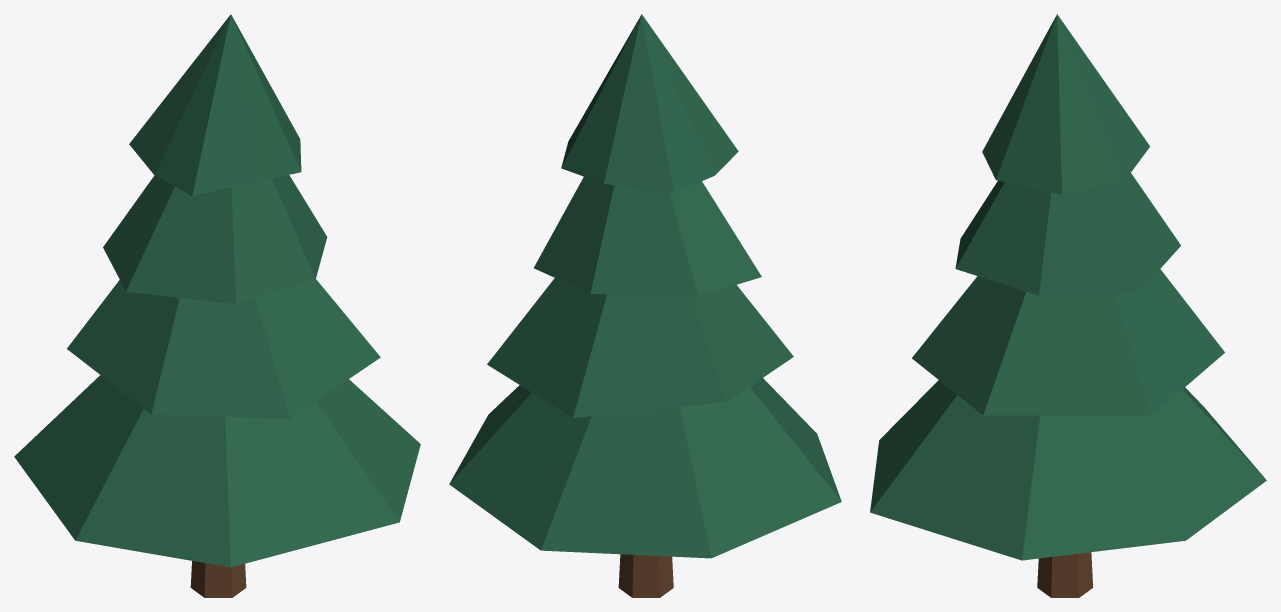
File: Pine_A.glb
3 renders of one model, left to right at view 1: azimuth 30°, elevation 25°; view 2: azimuth 150°, elevation 25°; view 3: azimuth 270°, elevation 25°, orthographic.
Visible parts, largest first — view 1: Pine_A; view 2: Pine_A; view 3: Pine_A.
Part boxes in pixels (bbox=[...]): Pine_A: bbox=[14, 14, 420, 597]; Pine_A: bbox=[449, 14, 841, 597]; Pine_A: bbox=[870, 14, 1266, 597].
Size of the model in its own units: 3.21 by 5.01 by 3.12.
